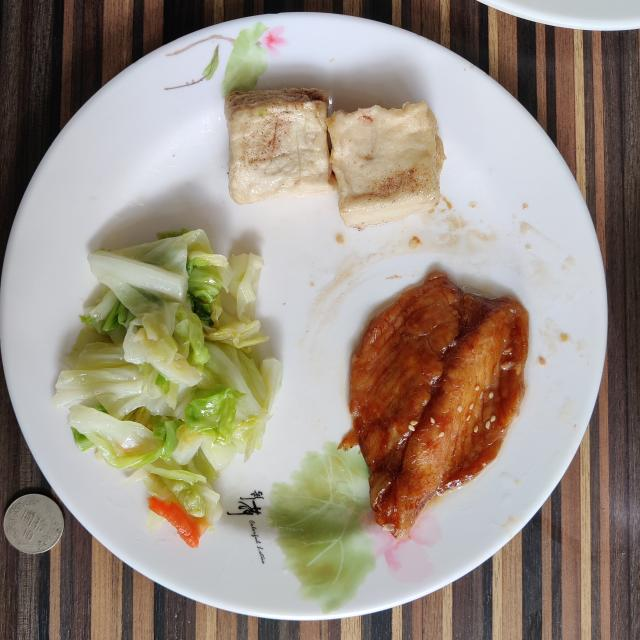Kabayaki sea bream fillet: (340, 271, 529, 539)
cabbage: (52, 229, 282, 548)
coin: (4, 494, 64, 554)
creamy tofu -without sauce-: (225, 89, 445, 228)
